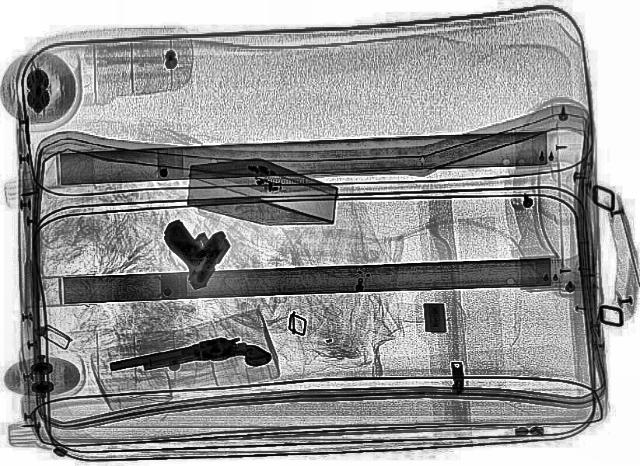Gun: (108, 330, 272, 392), (132, 214, 242, 290)
